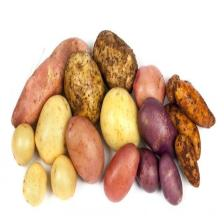Defected potato: (63, 112, 108, 187), (136, 97, 180, 160), (103, 140, 141, 204), (134, 61, 168, 112), (158, 151, 184, 208)
Diseased-fungal potato: (92, 25, 142, 96), (63, 49, 106, 127)
Potato: (98, 83, 144, 155), (33, 92, 77, 166), (20, 160, 49, 209), (50, 154, 79, 198), (11, 122, 36, 168)
